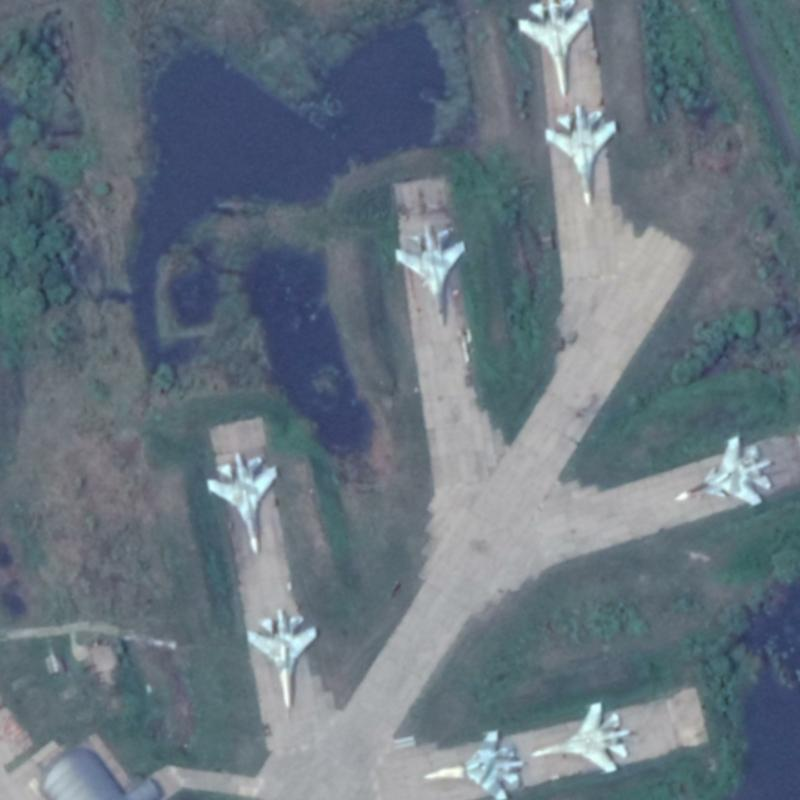A1: (539, 101, 619, 210), (203, 448, 280, 556), (391, 219, 466, 329), (514, 0, 595, 99), (529, 699, 633, 775), (243, 606, 318, 711), (420, 725, 525, 799)
A19: (670, 433, 774, 508)
